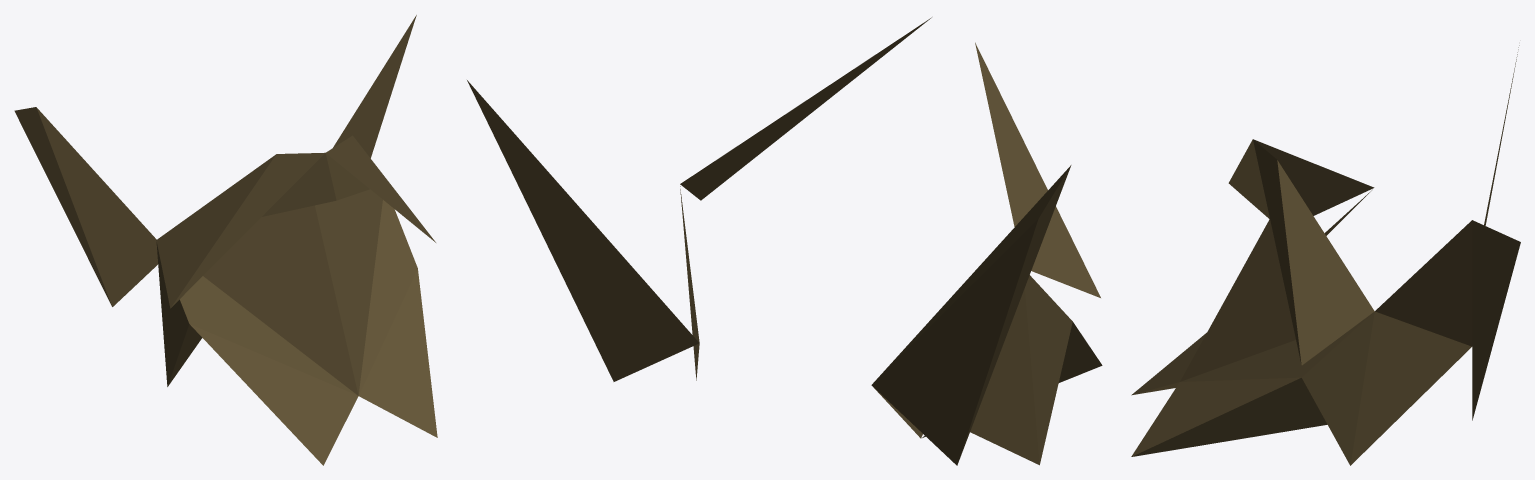
The model's file is man-head-lower.glb.
The picture shows the model from 3 angles, left to right: view 1: azimuth 30°, elevation 25°; view 2: azimuth 150°, elevation 25°; view 3: azimuth 270°, elevation 25°; orthographic projection. The views are drawn at different scales.
Visible parts, largest first — view 1: runescapemodel; view 2: runescapemodel; view 3: runescapemodel.
Boxes of the visible parts, <box> form: runescapemodel: <box>14,15,437,465</box>; runescapemodel: <box>467,17,1102,465</box>; runescapemodel: <box>1131,45,1520,465</box>.
Bounding box in the file's own units: 20 × 14 × 16.
